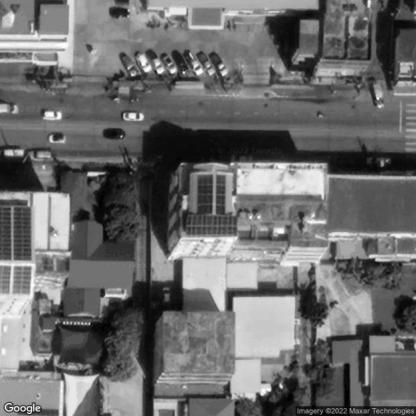solar-pv-panel: (0, 206, 33, 294)
